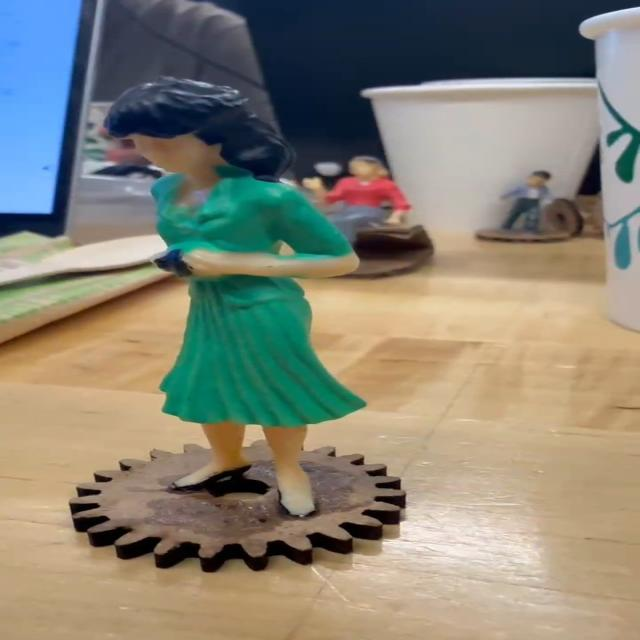Authorized: (82, 62, 392, 530)
